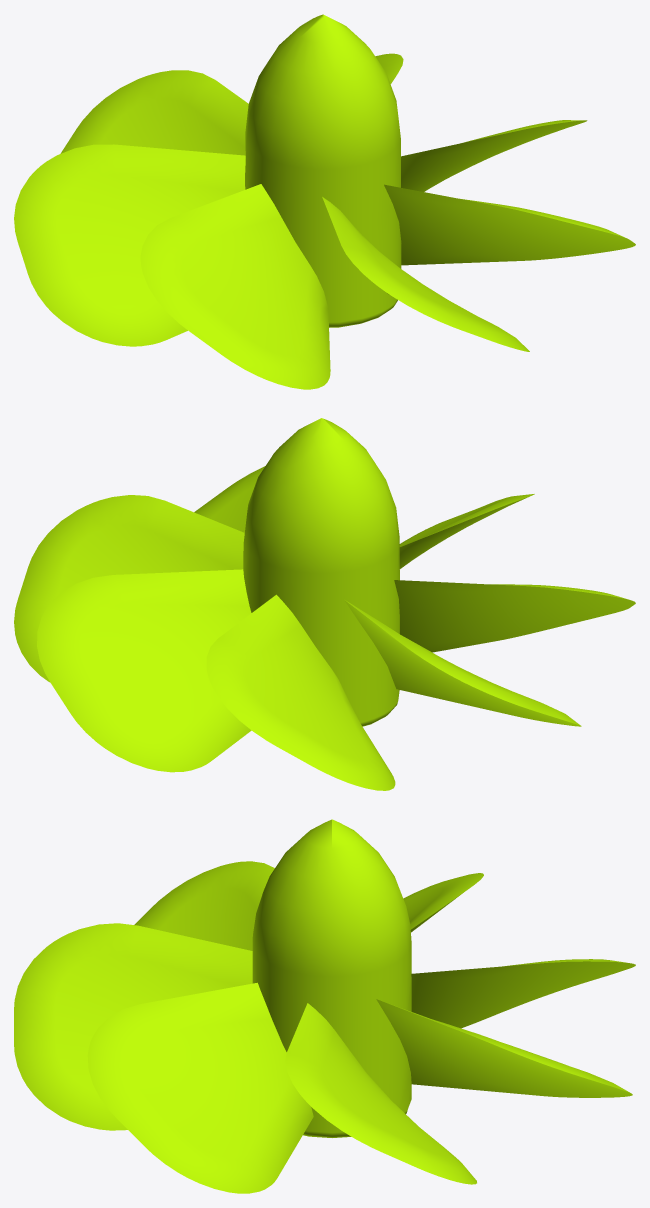
The model's file is propeller.fbx.
3 renders of one model, top to bottom at view 1: azimuth 30°, elevation 25°; view 2: azimuth 150°, elevation 25°; view 3: azimuth 270°, elevation 25°, orthographic.
Visible parts, largest first — view 1: Ô²½Ç3; view 2: Ô²½Ç3; view 3: Ô²½Ç3.
Part boxes in pixels (<box>): Ô²½Ç3: <box>14,14,635,389</box>; Ô²½Ç3: <box>14,418,635,790</box>; Ô²½Ç3: <box>14,819,635,1193</box>.
Size of the model in its own units: 19.87 by 10 by 19.55.
